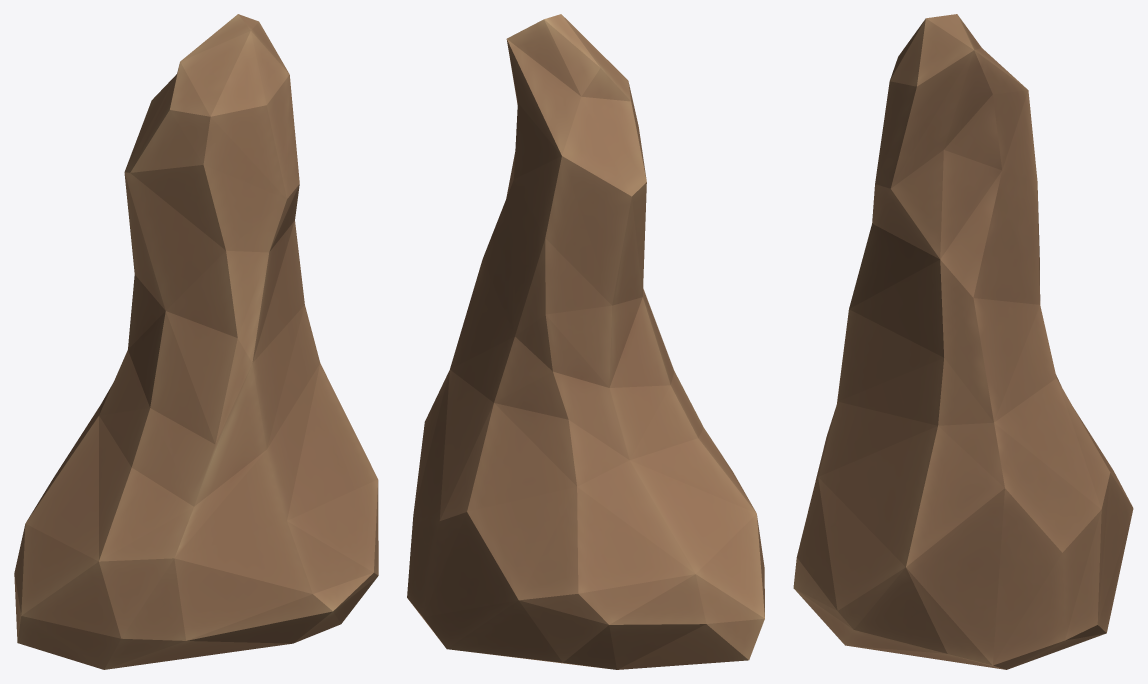
The model's file is Rock_30.fbx.
3 views of the same model, side by side, from view 1: azimuth 30°, elevation 25°; view 2: azimuth 150°, elevation 25°; view 3: azimuth 270°, elevation 25° (orthographic). The views are drawn at different scales.
Parts seen in each view (by area): view 1: Rock_30; view 2: Rock_30; view 3: Rock_30.
Part boxes in pixels (x1,y1,x2,y2): Rock_30: [14, 14, 378, 669]; Rock_30: [407, 14, 764, 669]; Rock_30: [793, 14, 1133, 669].
Bounding box in the file's own units: 30.32 × 50.53 × 25.68.
